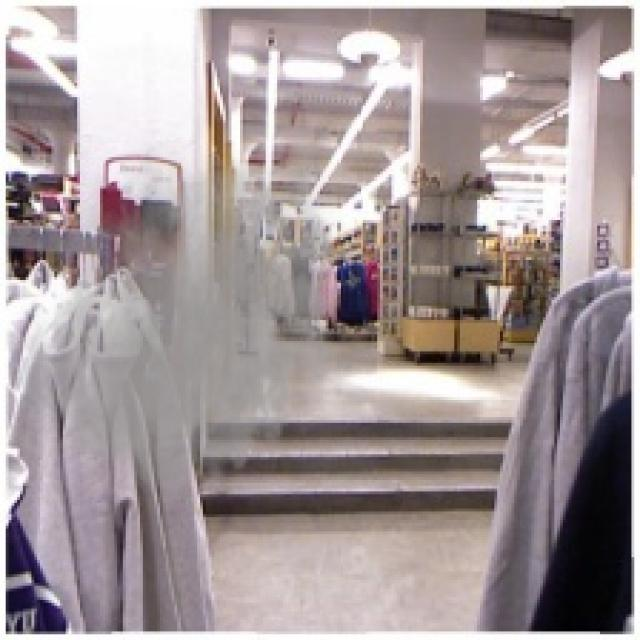smoke: (9, 123, 354, 517)
